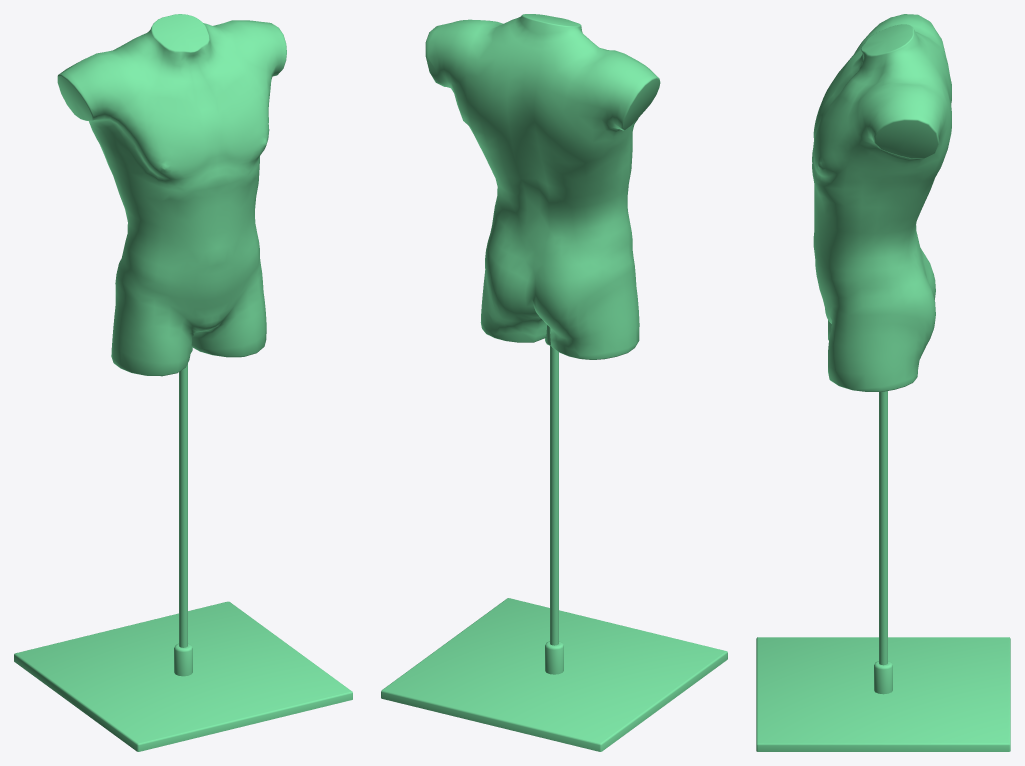
File: Mannequin_2_2.fbx
The picture shows the model from 3 angles, left to right: view 1: azimuth 30°, elevation 25°; view 2: azimuth 150°, elevation 25°; view 3: azimuth 270°, elevation 25°; orthographic projection. The views are drawn at different scales.
Parts seen in each view (by area): view 1: SM_Mannequin_2_2; view 2: SM_Mannequin_2_2; view 3: SM_Mannequin_2_2.
Boxes of the visible parts, left/top/right/bottom form: SM_Mannequin_2_2: left=14, top=14, right=352, bottom=751; SM_Mannequin_2_2: left=381, top=14, right=727, bottom=751; SM_Mannequin_2_2: left=756, top=14, right=1010, bottom=751.
Bounding box in the file's own units: 50 × 145 × 50.
